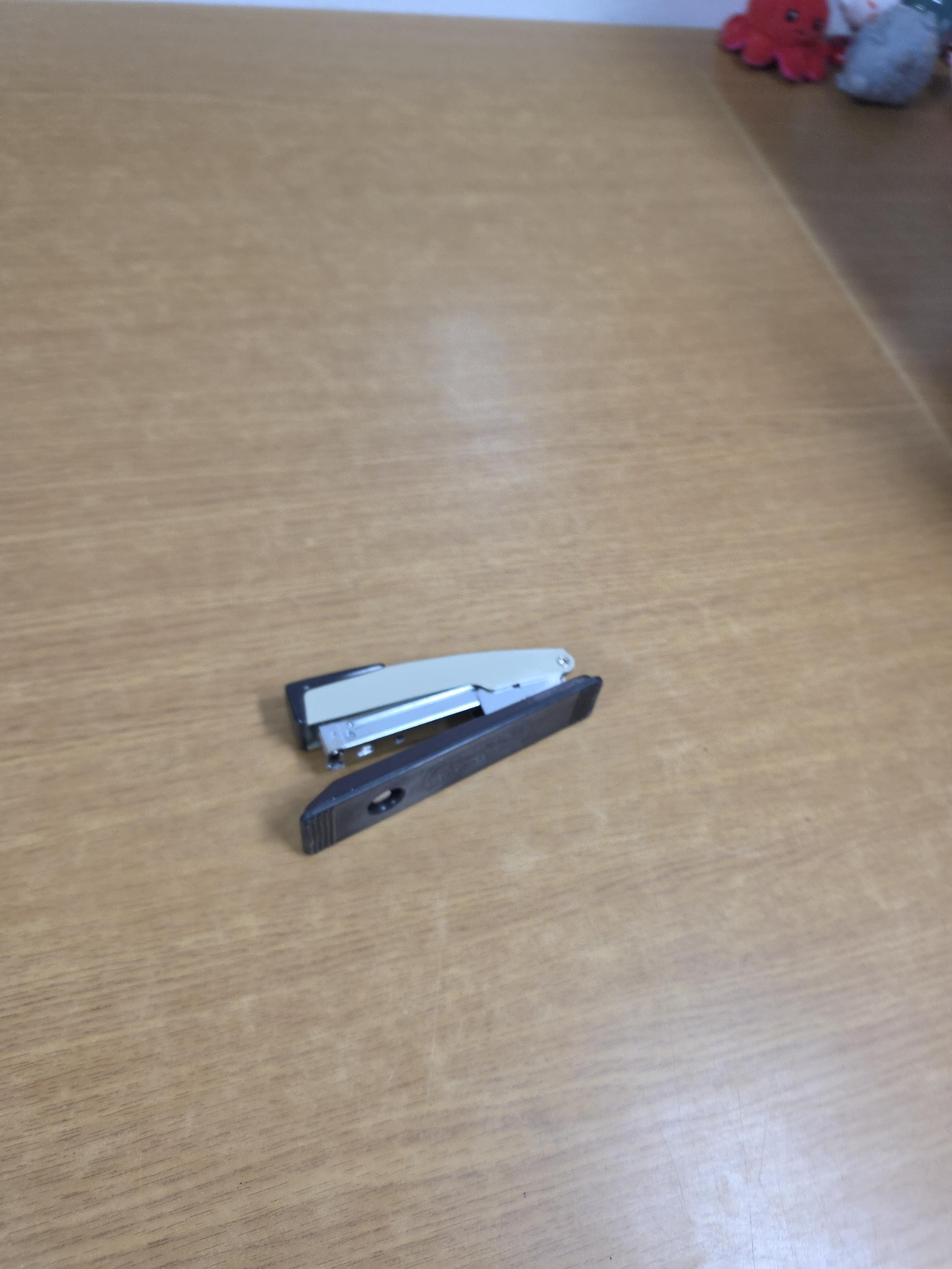stapler: (284, 646, 604, 856)
